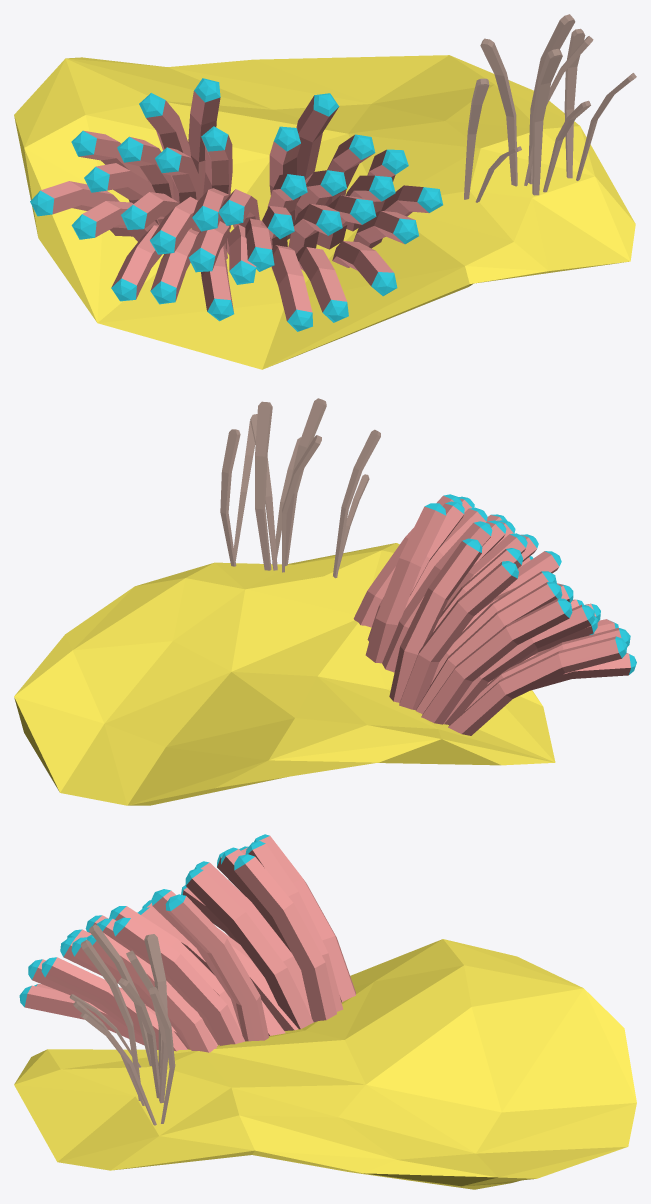
File: Coralls_005.glb
3 renders of one model, top to bottom at view 1: azimuth 30°, elevation 25°; view 2: azimuth 150°, elevation 25°; view 3: azimuth 270°, elevation 25°, orthographic. The views are drawn at different scales.
Parts seen in each view (by area): view 1: Coralls_005; view 2: Coralls_005; view 3: Coralls_005.
Boxes of the visible parts, x1,y1,x2,y2 form: Coralls_005: (14, 14, 636, 369); Coralls_005: (14, 398, 636, 805); Coralls_005: (14, 834, 636, 1189).
Size of the model in its own units: 2.16 by 1.03 by 2.25.
2 materials, 2 textured.
